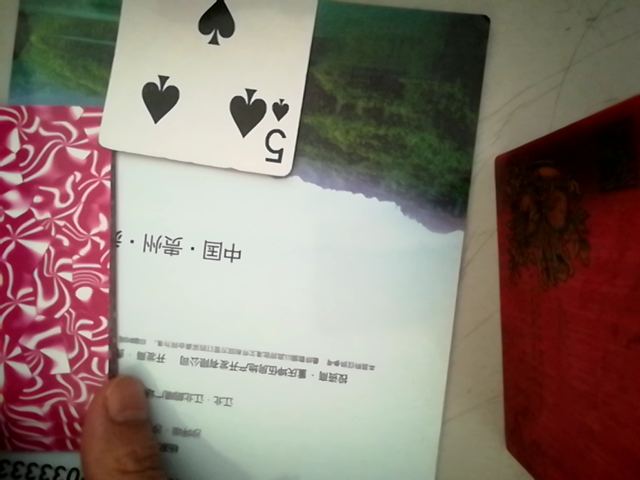ht 5: (93, 0, 341, 180)
